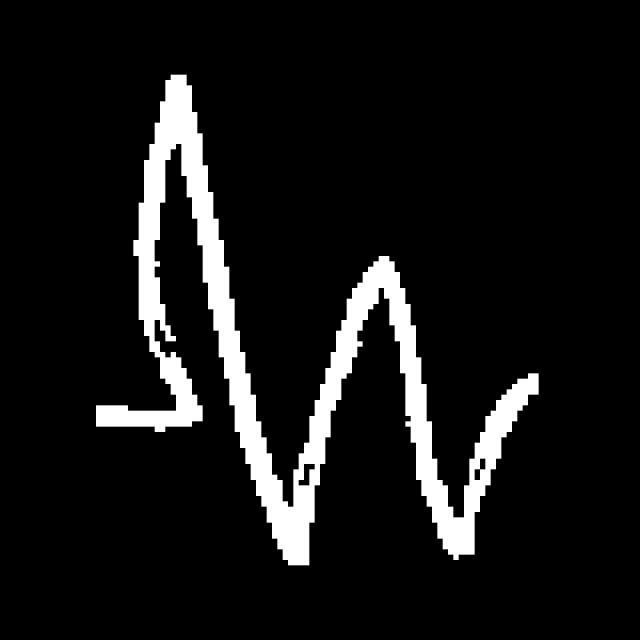resistor: (125, 61, 515, 584)
